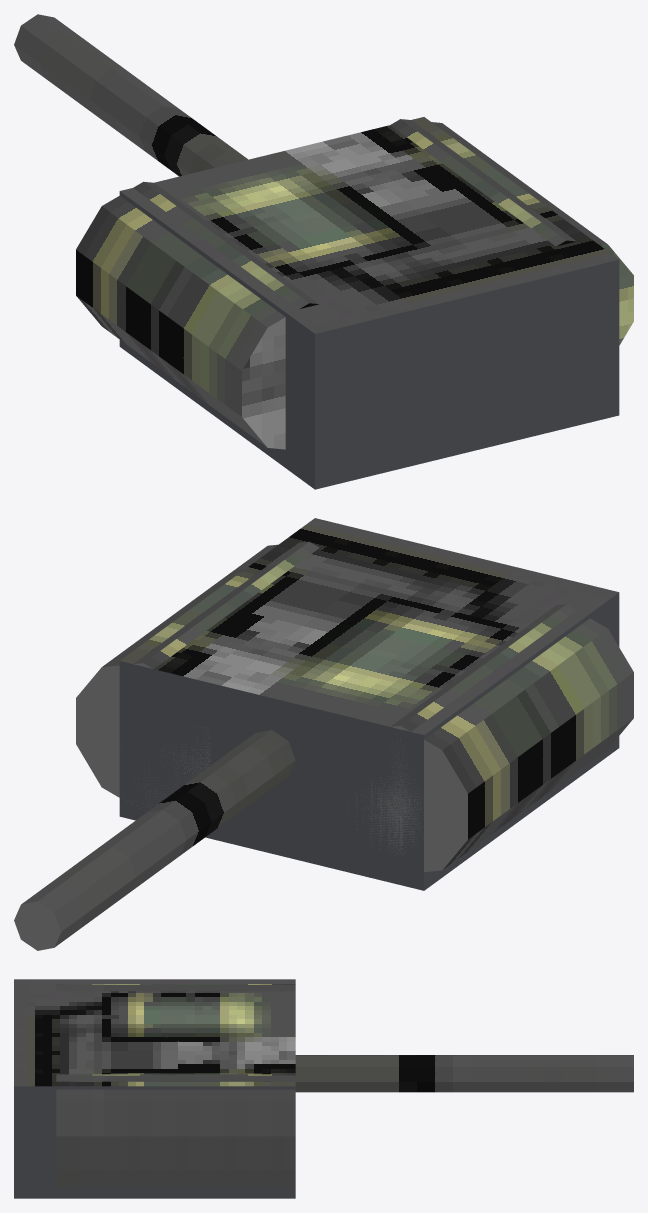
Rendered from Building_Turret_Autocannon__Top.glb.
The picture shows the model from 3 angles, top to bottom: view 1: azimuth 30°, elevation 25°; view 2: azimuth 150°, elevation 25°; view 3: azimuth 270°, elevation 25°; orthographic projection. The views are drawn at different scales.
Parts seen in each view (by area): view 1: Turret_Autocannon__Top; view 2: Turret_Autocannon__Top; view 3: Turret_Autocannon__Top.
Boxes of the visible parts, x1,y1,x2,y2 form: Turret_Autocannon__Top: [14, 14, 633, 489]; Turret_Autocannon__Top: [14, 518, 633, 950]; Turret_Autocannon__Top: [14, 979, 633, 1198].
Size of the model in its own units: 1.16 by 0.45 by 2.2.
Materials: 1 (1 with a texture image).
